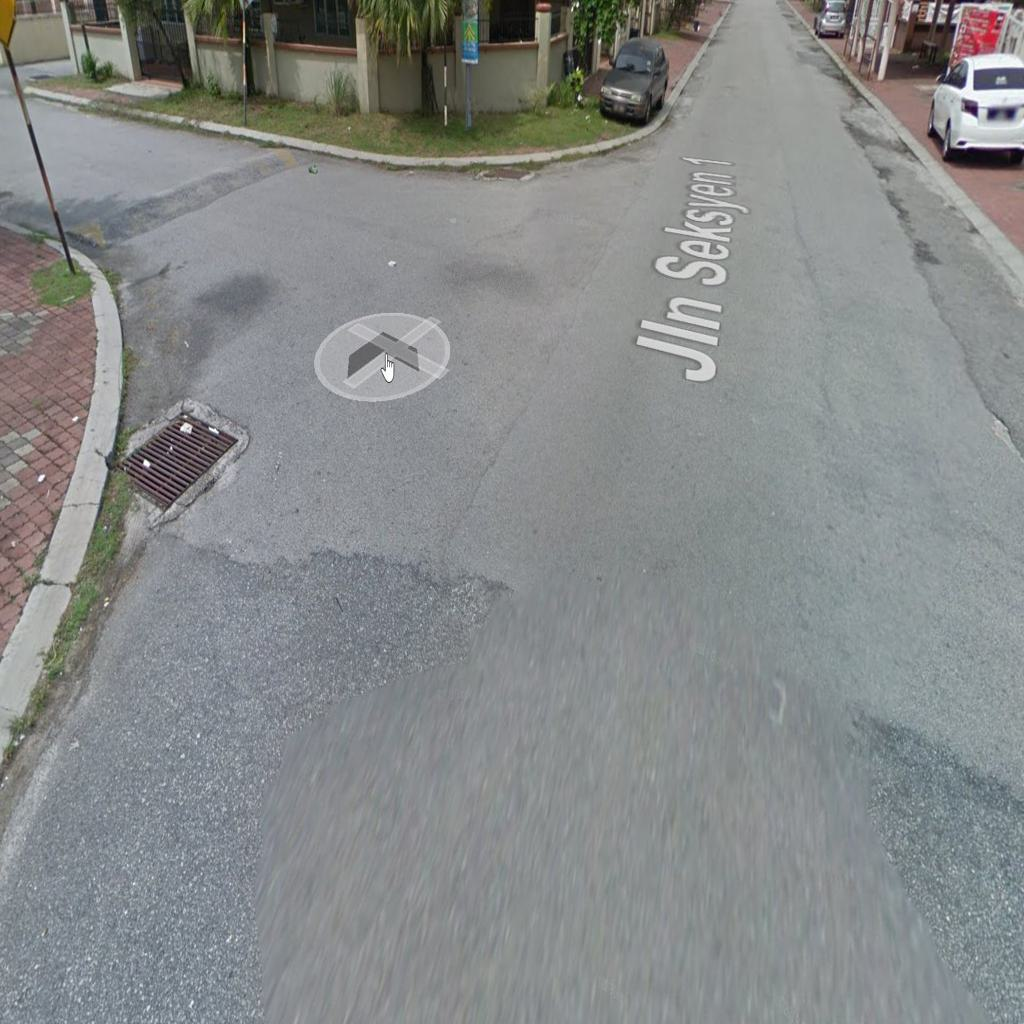Junction: (15, 77, 615, 532)
